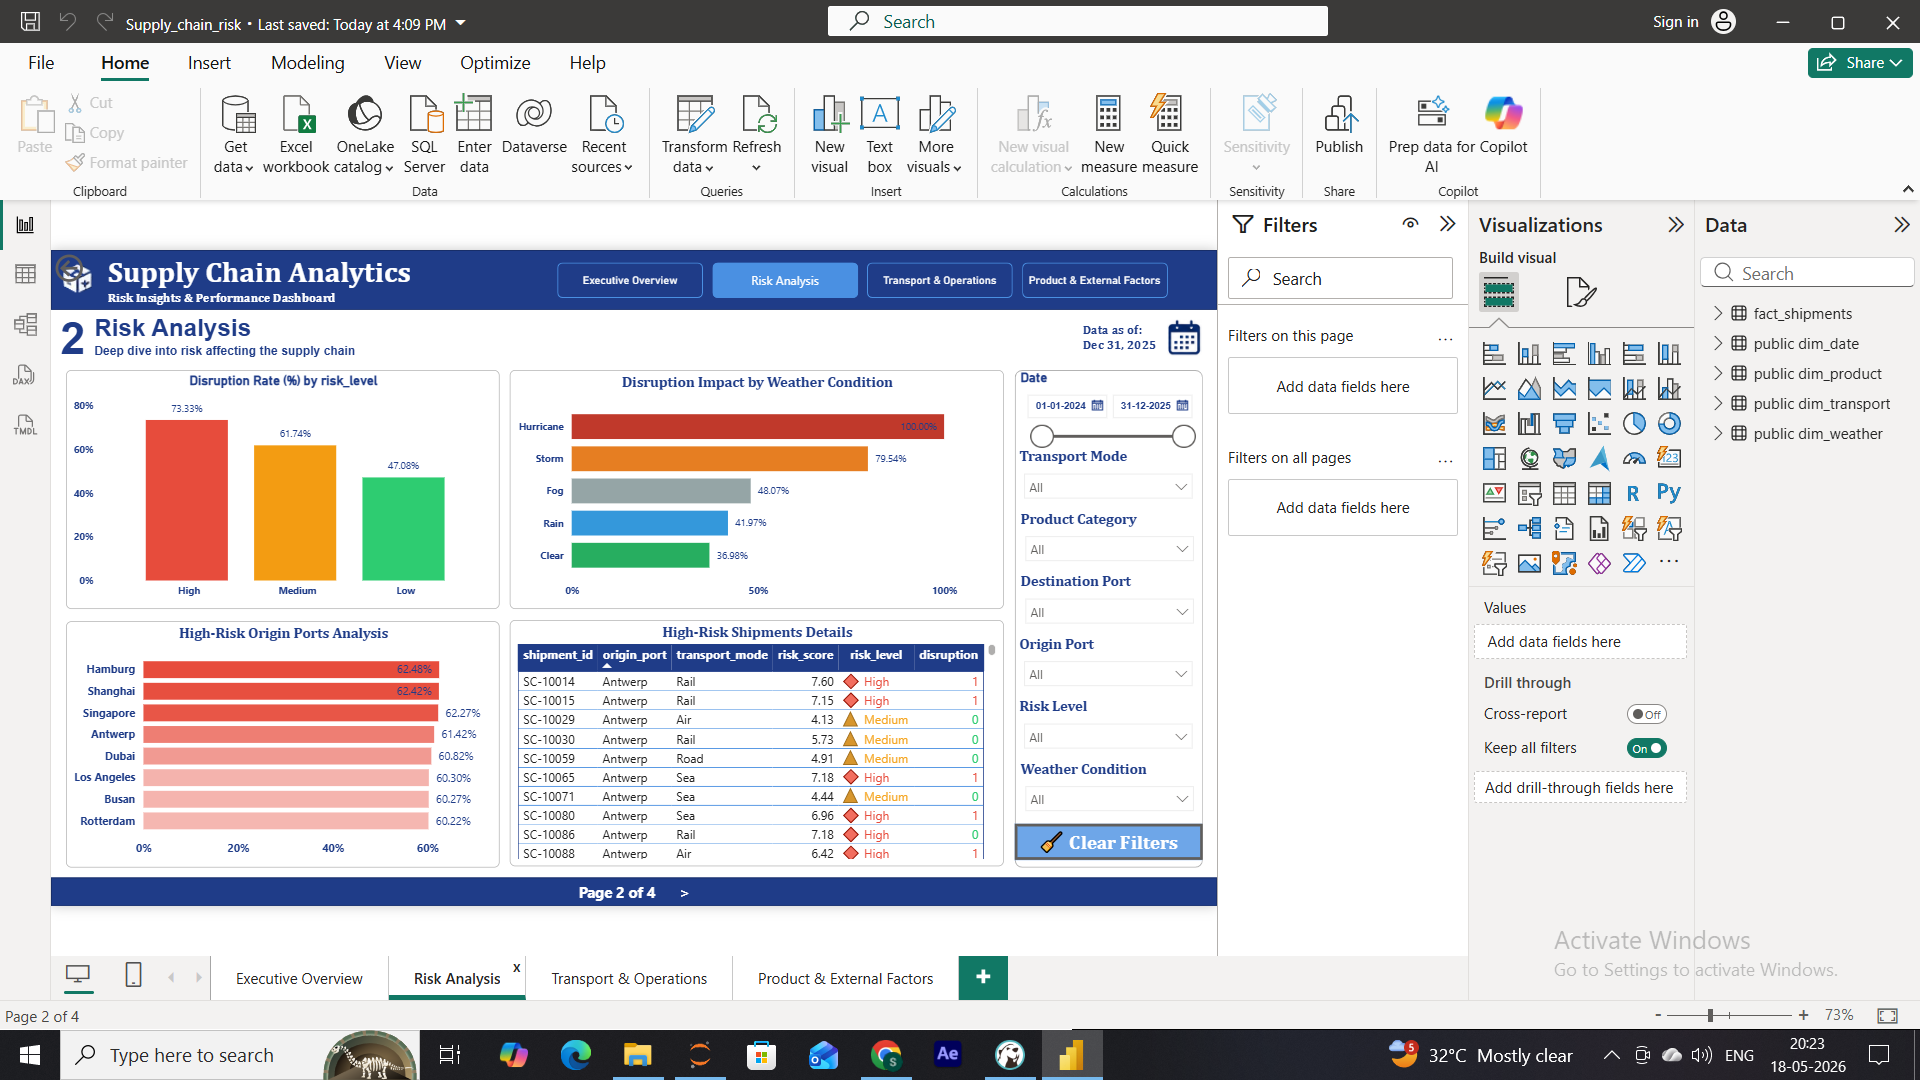

What the dashboard file says about the page in this screenshot:
{"tool":"powerbi","page":{"name":"Risk Analysis","canvas":[1280,720],"ordinal":1},"visuals":[{"type":"shape","box":[0,0,1280.3,65.9],"z":0},{"type":"shape","box":[0,688.4,1280.3,31.6],"z":1000},{"type":"textbox","box":[0,688.4,1280.3,31.6],"z":2000},{"type":"pageNavigator","box":[555.7,13.7,672.4,39.8],"z":3000},{"type":"image","box":[0,6.8,57,52.9],"z":4000},{"type":"textbox","box":[57,0,397.8,221.3],"z":5000},{"type":"textbox","box":[6,66,45.6,80.5],"z":6000},{"type":"textbox","box":[42,66,792.5,98.5],"z":7000},{"type":"cardVisual","fields":{"Data":["fact_shipments.Last Updated"]},"box":[1103.5,44.4,159.7,102.1],"z":8000},{"type":"image","box":[1226,74.4,37.2,44.4],"z":9000},{"type":"columnChart","fields":{"Category":["fact_shipments.risk_level"],"Y":["fact_shipments.Disruption Rate (%)"]},"box":[16.5,131.7,476.2,262.1],"z":10000},{"type":"barChart","title":"Disruption Impact by Weather Condition","fields":{"Category":["fact_shipments.weather_condition"],"Y":["fact_shipments.Disruption Rate (%)"]},"box":[503.6,131.7,542,262.1],"z":11000},{"type":"barChart","title":"High-Risk Origin Ports Analysis","fields":{"Category":["fact_shipments.origin_port"],"Y":["fact_shipments.Disruption Rate (%)"]},"box":[16.5,407.5,476.2,270.3],"z":12000},{"type":"tableEx","title":"High-Risk Shipments Details","fields":{"Values":["fact_shipments.shipment_id","fact_shipments.origin_port","fact_shipments.transport_mode","fact_shipments.Overall Risk Score","fact_shipments.Dynamic Risk Level","fact_shipments.disruption_occurred"]},"box":[503.6,406.2,542,270.3],"z":13000},{"type":"actionButton","box":[0,0,100,40],"z":14000},{"type":"shape","box":[1057.9,132.1,206.5,546.3],"z":15000},{"type":"slicer","title":"Date","fields":{"Values":["fact_shipments.date"]},"box":[1059.1,132.1,205.3,94.9],"z":16000},{"type":"slicer","title":"Transport Mode","fields":{"Values":["fact_shipments.transport_mode"]},"box":[1057.9,216.5,205.3,79.2],"z":17000},{"type":"slicer","title":"Product Category","fields":{"Values":["fact_shipments.product_category"]},"box":[1059.1,285.3,205.3,79.2],"z":18000},{"type":"slicer","title":"Destination Port","fields":{"Values":["fact_shipments.risk_level"]},"box":[1059.1,354,205.3,79.2],"z":19000},{"type":"slicer","title":"Origin Port","fields":{"Values":["fact_shipments.weather_condition"]},"box":[1057.9,422.8,205.3,79.2],"z":20000},{"type":"textbox","box":[1057.9,629.2,205.3,39.6],"z":21000},{"type":"slicer","title":"Risk Level","fields":{"Values":["fact_shipments.risk_level"]},"box":[1057.9,491.6,205.3,79.2],"z":22000},{"type":"slicer","title":"Weather Condition","fields":{"Values":["fact_shipments.weather_condition"]},"box":[1059.1,560.4,205.3,79.2],"z":23000},{"type":"actionButton","box":[1057.9,629.2,206.5,39.6],"z":24000}]}

Visuals, with their boxes on the page's 1280x720 design canvas (x1, y1, x2, y2). These are canvas units, not pixel positions in the 1920x1080 screenshot, which may show the page scaled, cropped or inside an application window:
shape: pyautogui.locateOnScreen(0, 0, 1280, 66)
shape: pyautogui.locateOnScreen(0, 688, 1280, 720)
textbox: pyautogui.locateOnScreen(0, 688, 1280, 720)
pageNavigator: pyautogui.locateOnScreen(556, 14, 1228, 54)
image: pyautogui.locateOnScreen(0, 7, 57, 60)
textbox: pyautogui.locateOnScreen(57, 0, 455, 221)
textbox: pyautogui.locateOnScreen(6, 66, 52, 146)
textbox: pyautogui.locateOnScreen(42, 66, 834, 164)
cardVisual - fact_shipments.Last Updated: pyautogui.locateOnScreen(1104, 44, 1263, 146)
image: pyautogui.locateOnScreen(1226, 74, 1263, 119)
columnChart - fact_shipments.risk_level x fact_shipments.Disruption Rate (%): pyautogui.locateOnScreen(16, 132, 493, 394)
"Disruption Impact by Weather Condition" barChart: pyautogui.locateOnScreen(504, 132, 1046, 394)
"High-Risk Origin Ports Analysis" barChart: pyautogui.locateOnScreen(16, 408, 493, 678)
"High-Risk Shipments Details" tableEx: pyautogui.locateOnScreen(504, 406, 1046, 676)
actionButton: pyautogui.locateOnScreen(0, 0, 100, 40)
shape: pyautogui.locateOnScreen(1058, 132, 1264, 678)
"Date" slicer: pyautogui.locateOnScreen(1059, 132, 1264, 227)
"Transport Mode" slicer: pyautogui.locateOnScreen(1058, 216, 1263, 296)
"Product Category" slicer: pyautogui.locateOnScreen(1059, 285, 1264, 364)
"Destination Port" slicer: pyautogui.locateOnScreen(1059, 354, 1264, 433)
"Origin Port" slicer: pyautogui.locateOnScreen(1058, 423, 1263, 502)
textbox: pyautogui.locateOnScreen(1058, 629, 1263, 669)
"Risk Level" slicer: pyautogui.locateOnScreen(1058, 492, 1263, 571)
"Weather Condition" slicer: pyautogui.locateOnScreen(1059, 560, 1264, 640)
actionButton: pyautogui.locateOnScreen(1058, 629, 1264, 669)
